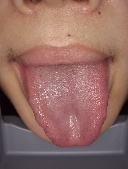tongue: (26, 67, 110, 148)
